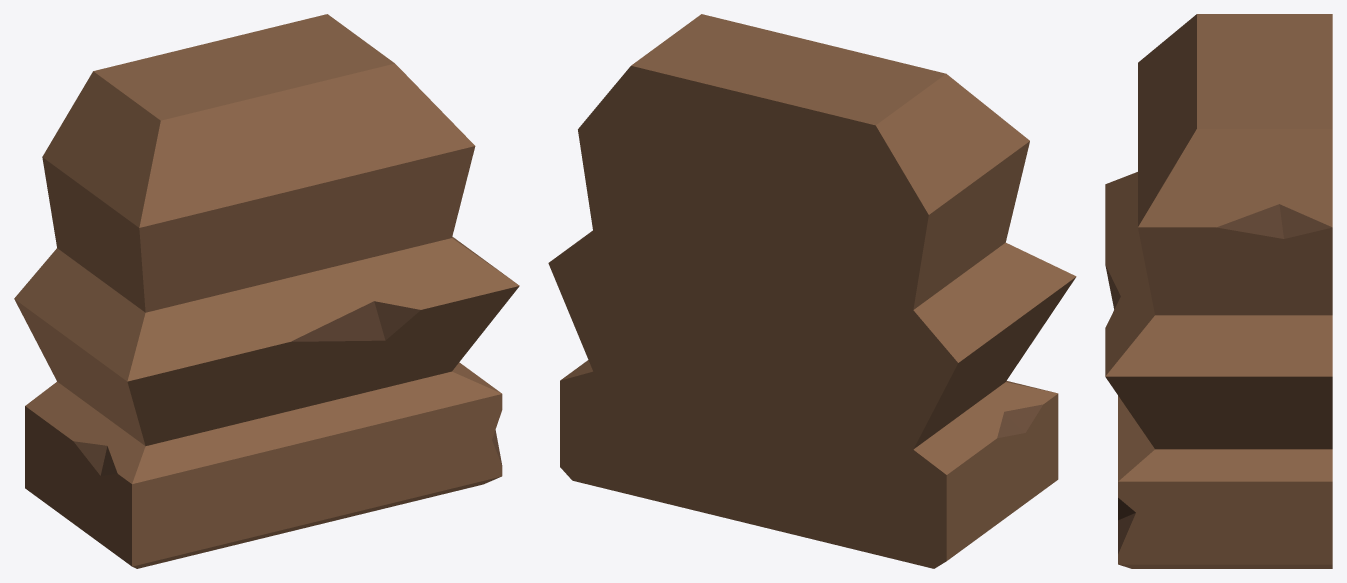
File: elven_SM_Bld_Wall_Trim_End_A_03.gltf
3 views of the same model, side by side, from view 1: azimuth 30°, elevation 25°; view 2: azimuth 150°, elevation 25°; view 3: azimuth 270°, elevation 25° (orthographic). The views are drawn at different scales.
Visible parts, largest first — view 1: SM_Bld_Wall_Trim_End_A_03; view 2: SM_Bld_Wall_Trim_End_A_03; view 3: SM_Bld_Wall_Trim_End_A_03.
Boxes of the visible parts, x1,y1,x2,y2 form: SM_Bld_Wall_Trim_End_A_03: (14,14,519,568); SM_Bld_Wall_Trim_End_A_03: (548,14,1076,568); SM_Bld_Wall_Trim_End_A_03: (1105,14,1332,568).
Bounding box in the file's own units: 0.6461 × 0.6464 × 0.323.
1 material, 1 textured.
